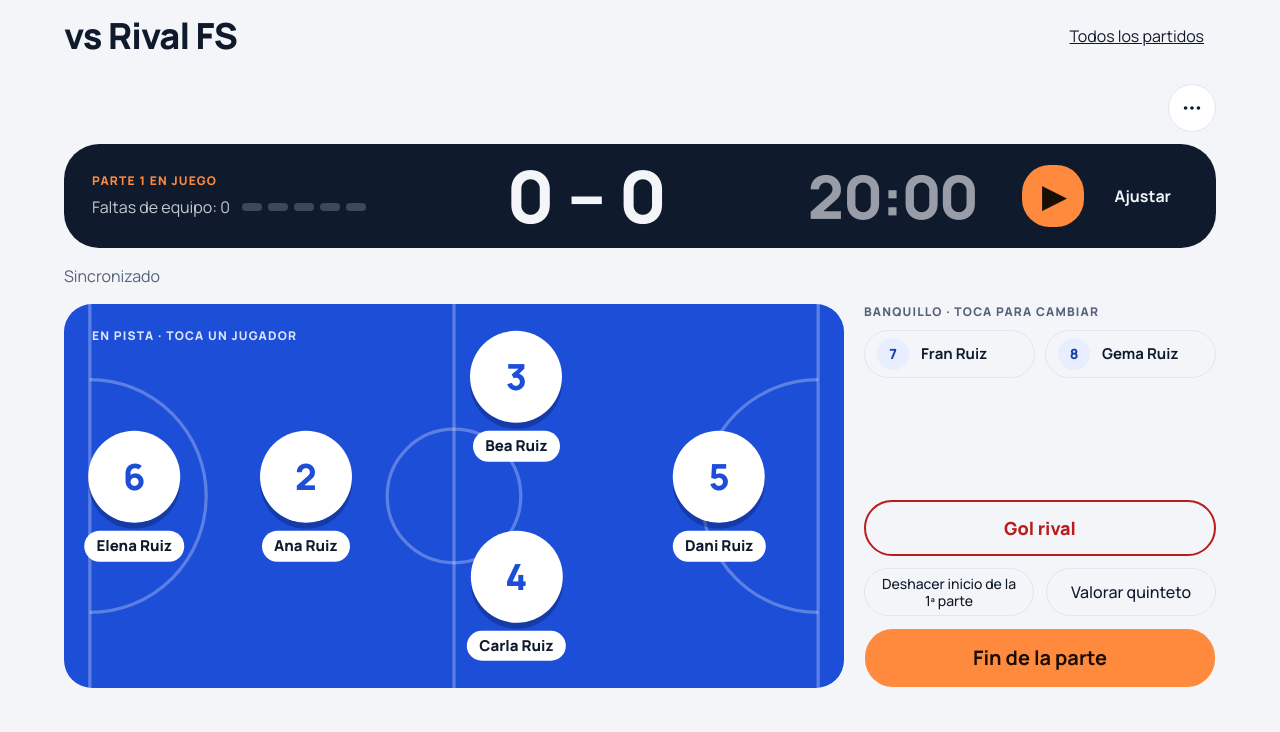
Test case: panel en vivo › cronómetro › cuenta atrás por diferencia de horas y se para con el botón
Click the button named "Arrancar el reloj".
click(1054, 196)  # box left=1022, top=164, right=1086, bottom=228
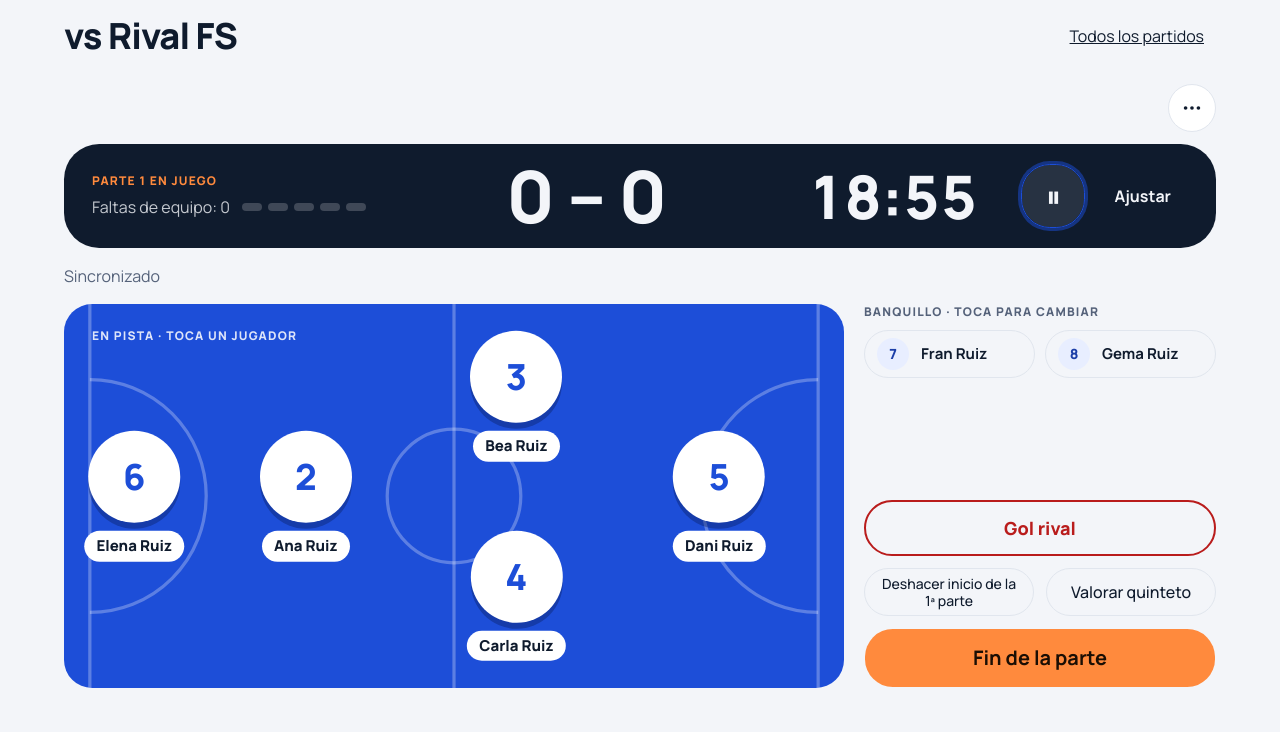
Now the text named "Reloj" reads "18:55", box left=807, top=155, right=978, bottom=237
Click the button named "Parar el reloj".
click(1054, 196)  # box left=1022, top=164, right=1086, bottom=228
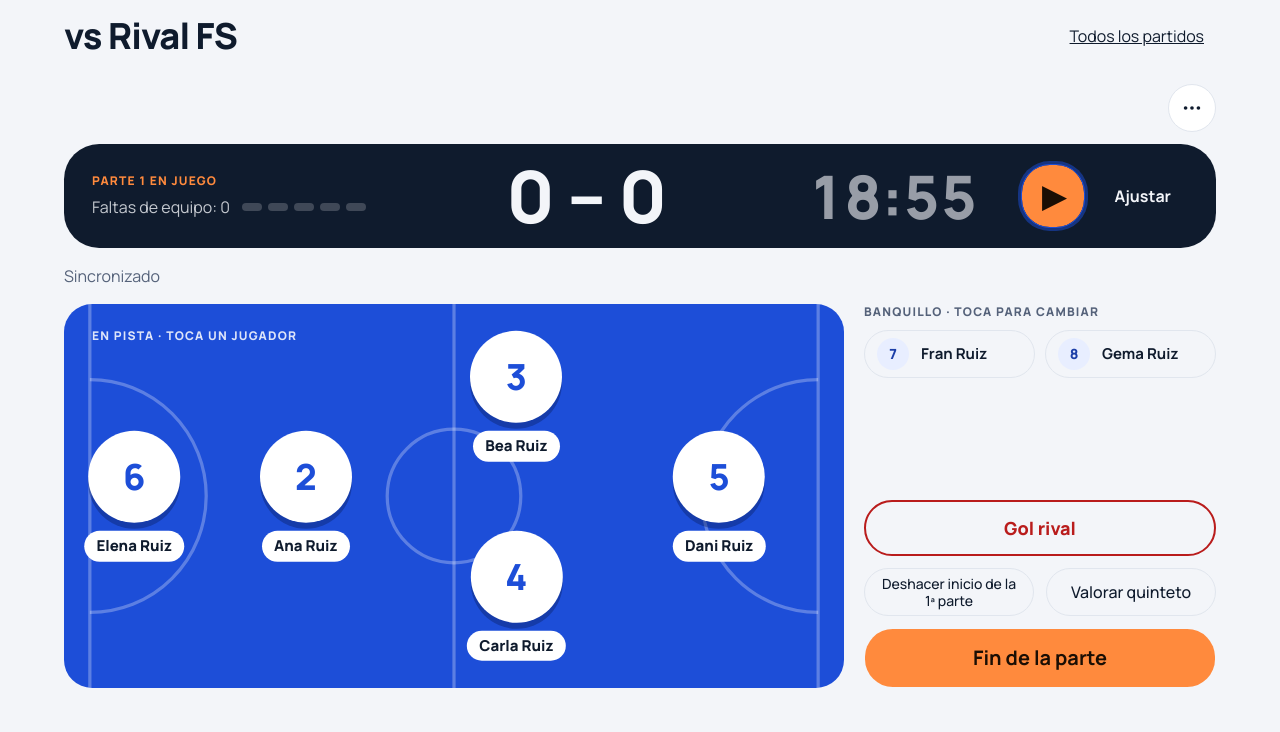
Now the text named "Reloj" reads "18:55", box left=807, top=155, right=978, bottom=237
Now the button named "Arrancar el reloj" is shown, box left=1022, top=164, right=1086, bottom=228
